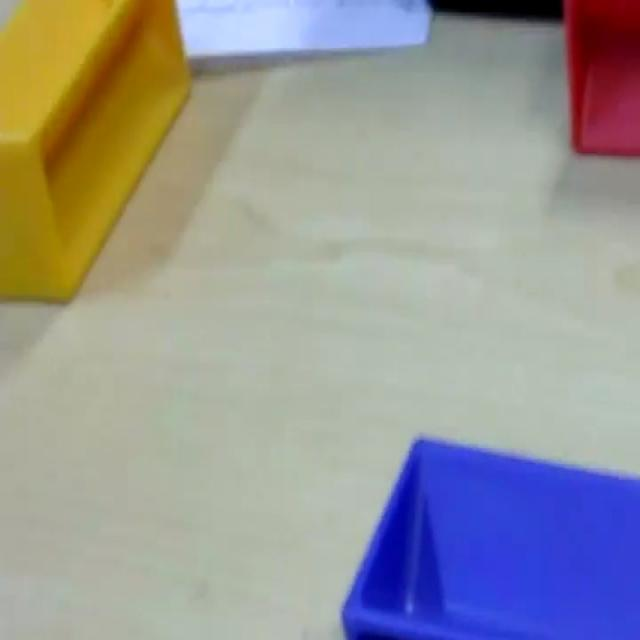blue_block: (340, 431, 638, 637)
yellow_block: (1, 0, 191, 303)
